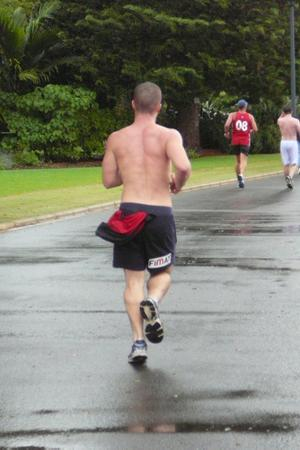person: (96, 84, 191, 362)
